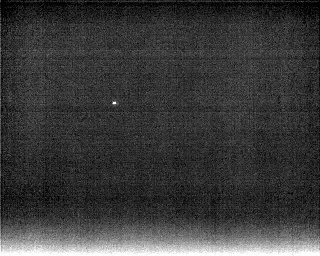BIRD: (109, 98, 119, 107)
